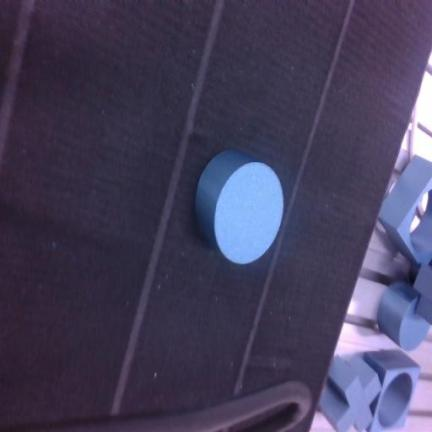cylinder: (195, 149, 283, 264)
